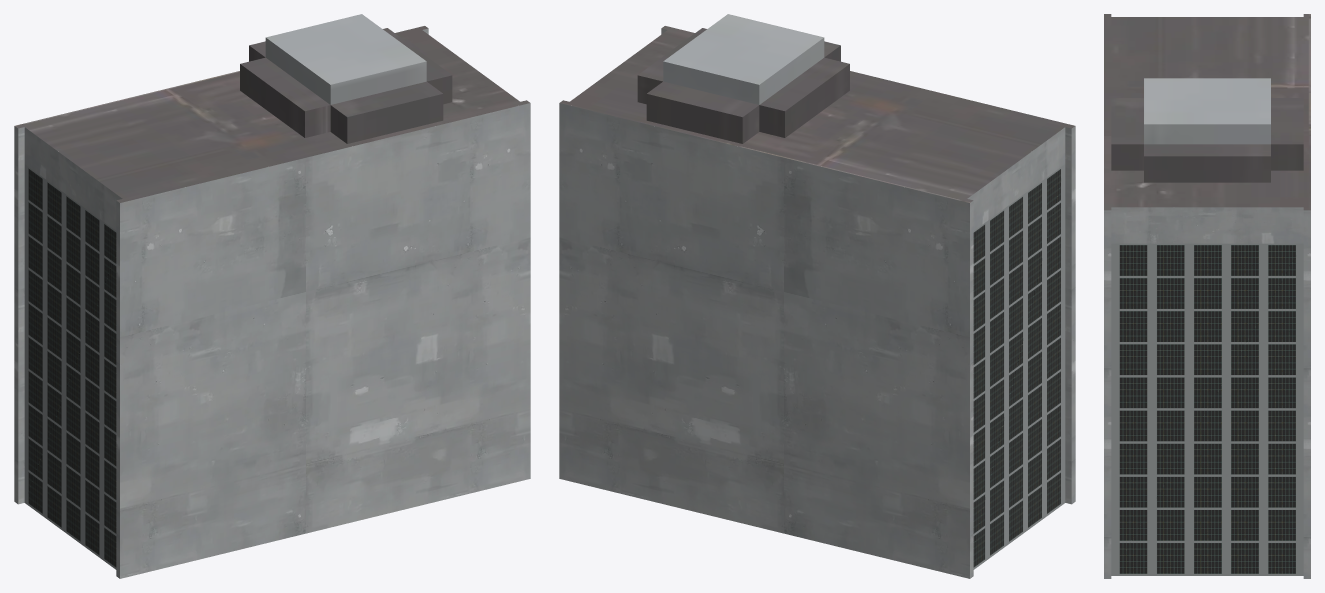
3 views of the same model, side by side, from view 1: azimuth 30°, elevation 25°; view 2: azimuth 150°, elevation 25°; view 3: azimuth 270°, elevation 25° (orthographic).
Visible parts, largest first — view 1: body0_model0_lod0_mesh1, body0_model0_lod0_mesh2, body0_model0_lod0_mesh0; view 2: body0_model0_lod0_mesh1, body0_model0_lod0_mesh2, body0_model0_lod0_mesh0; view 3: body0_model0_lod0_mesh0, body0_model0_lod0_mesh2, body0_model0_lod0_mesh1.
Boxes of the visible parts, box(x1,y1,x2,y2) form: body0_model0_lod0_mesh1: box(14, 14, 530, 578); body0_model0_lod0_mesh2: box(15, 26, 529, 202); body0_model0_lod0_mesh0: box(24, 164, 116, 569); body0_model0_lod0_mesh1: box(559, 14, 1075, 578); body0_model0_lod0_mesh2: box(560, 26, 1074, 202); body0_model0_lod0_mesh0: box(973, 164, 1065, 569); body0_model0_lod0_mesh0: box(1111, 243, 1303, 575); body0_model0_lod0_mesh2: box(1104, 14, 1310, 210); body0_model0_lod0_mesh1: box(1104, 78, 1310, 578).
Bounding box in the file's own units: 128 × 126 × 57.01.
3 materials, 3 textured.
